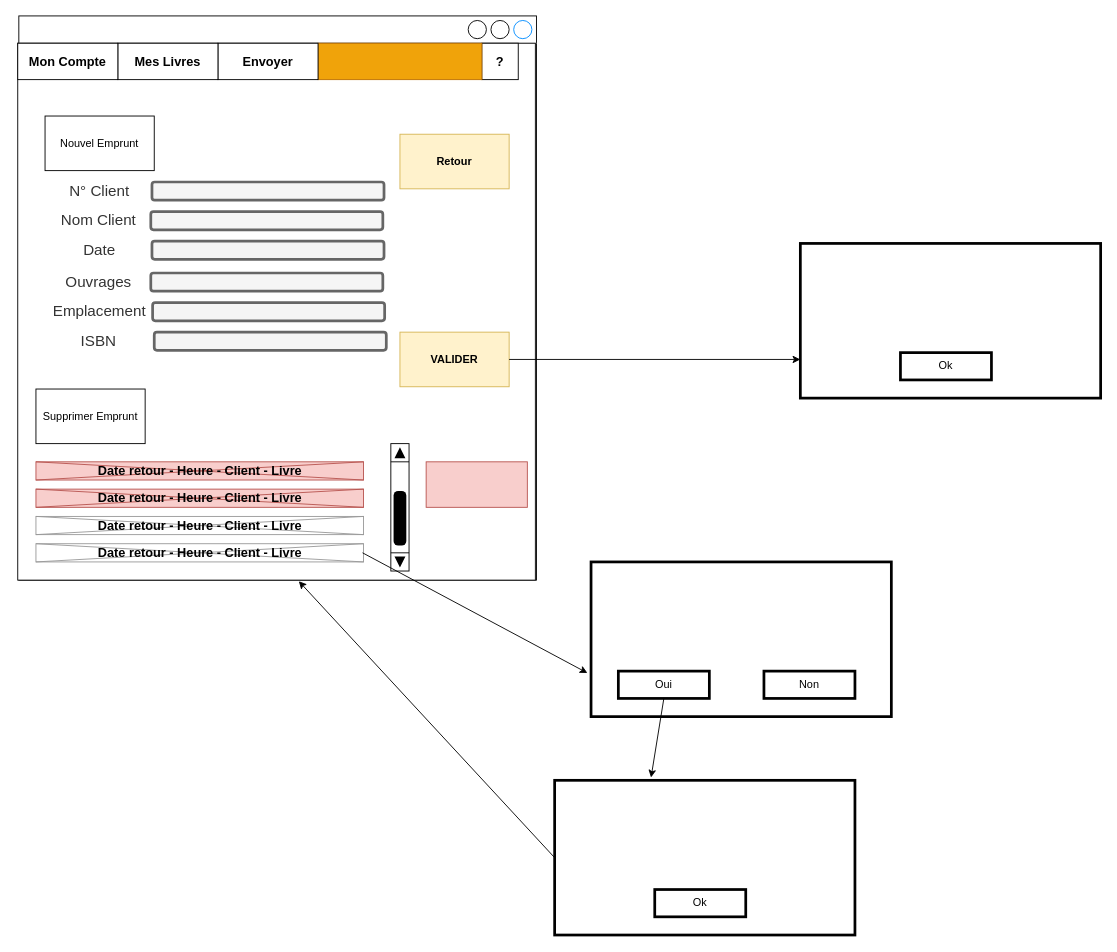
Some shapes in this 1117 by 952 pixel diagram are drawn without their labels. The box of each missing label's shape, as (x1, y1, x2, y2) in pixels:
Affichage en rouge si date retour dépassée: (425, 461, 527, 507)
Emprunt supprimé !!: (553, 779, 856, 936)
Emprunt Validé !: (799, 242, 1102, 399)
Gérer des emprunts: (18, 15, 536, 580)
Ventes & Emprunts: (317, 42, 482, 80)
Êtes vous sur de supprimer cet Emprunt ?: (589, 560, 892, 718)
